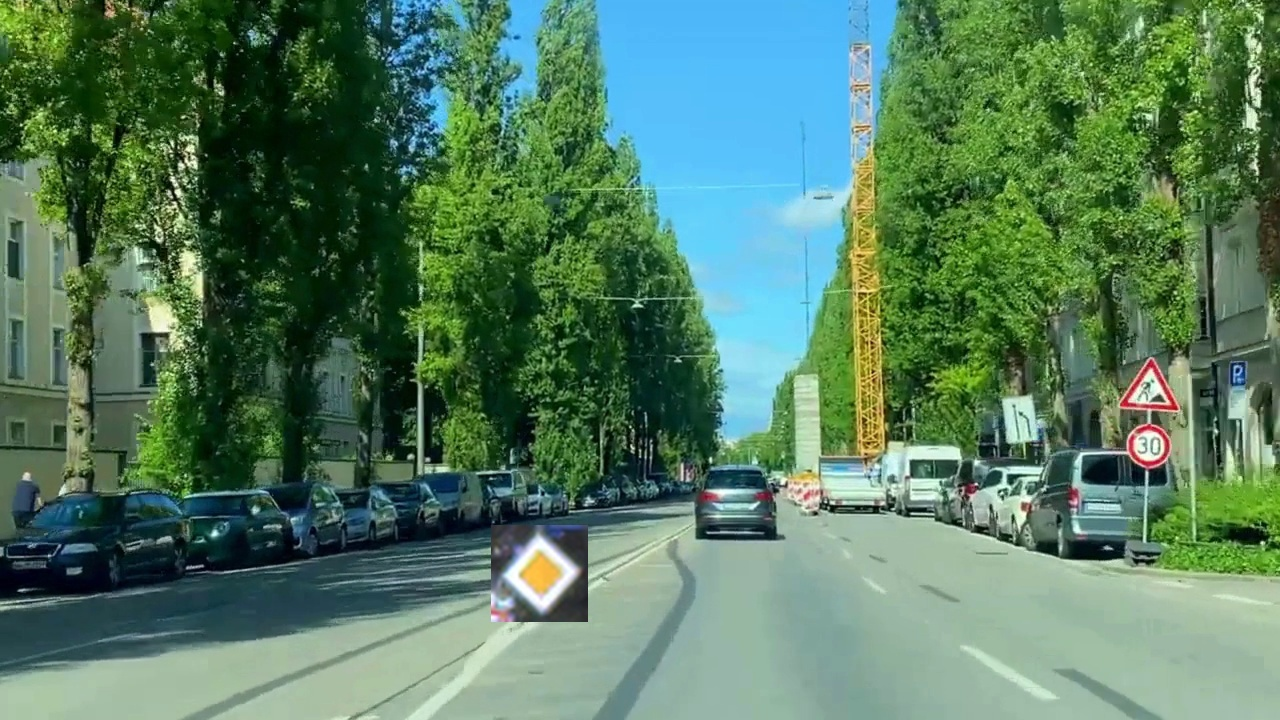Priority road: (491, 525, 588, 622)
